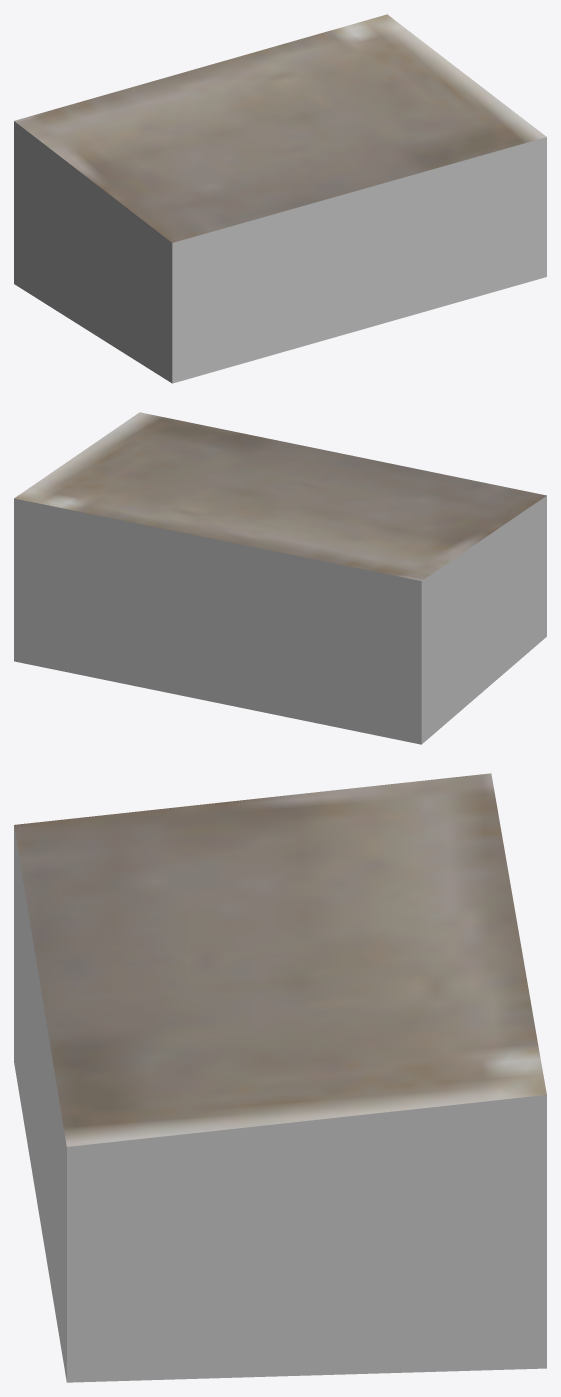
The model's file is DEBW_0010007Txix.gltf.
3 views of the same model, one above another, from view 1: azimuth 30°, elevation 25°; view 2: azimuth 150°, elevation 25°; view 3: azimuth 270°, elevation 25° (orthographic). The views are drawn at different scales.
Visible parts, largest first — view 1: Z_UP; view 2: Z_UP; view 3: Z_UP.
Part boxes in pixels (x1=…): Z_UP: x1=14, y1=14, x2=546, y2=383; Z_UP: x1=14, y1=412, x2=546, y2=744; Z_UP: x1=14, y1=773, x2=546, y2=1382.
Size of the model in its own units: 8.54 by 3.27 by 5.75.
Materials: 2 (1 with a texture image).
